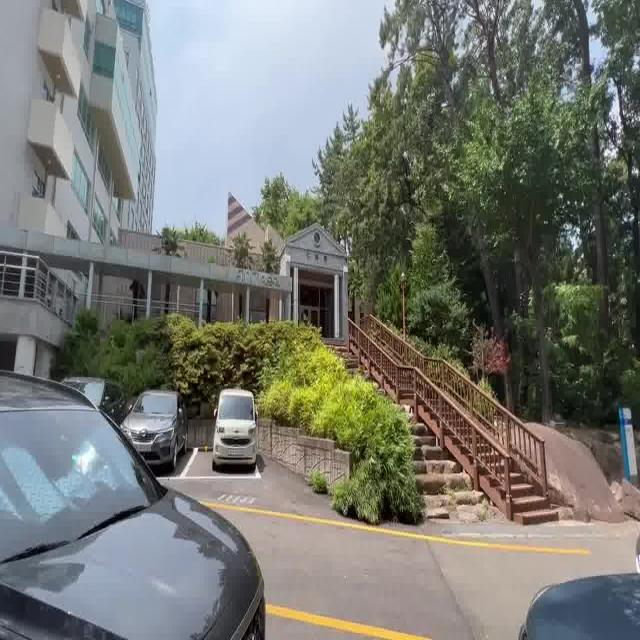building: (125, 209, 360, 341)
